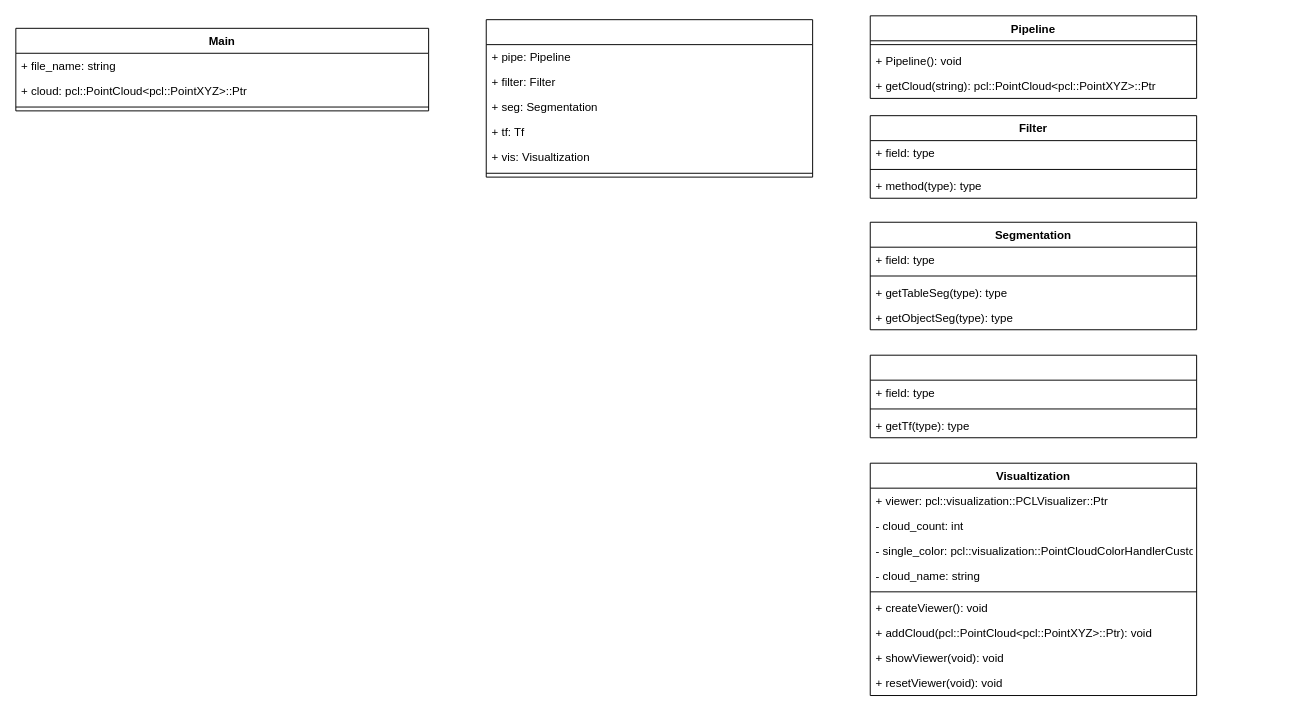
Some shapes in this 1304 by 711 pixel diagram are drawn without their labels. Each missing label, with the box of its shape:
GetTf: (485, 19, 813, 177)
Tf: (869, 354, 1197, 438)
